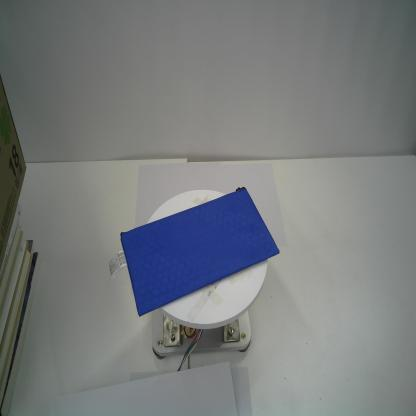Stationery: (103, 186, 282, 320)
